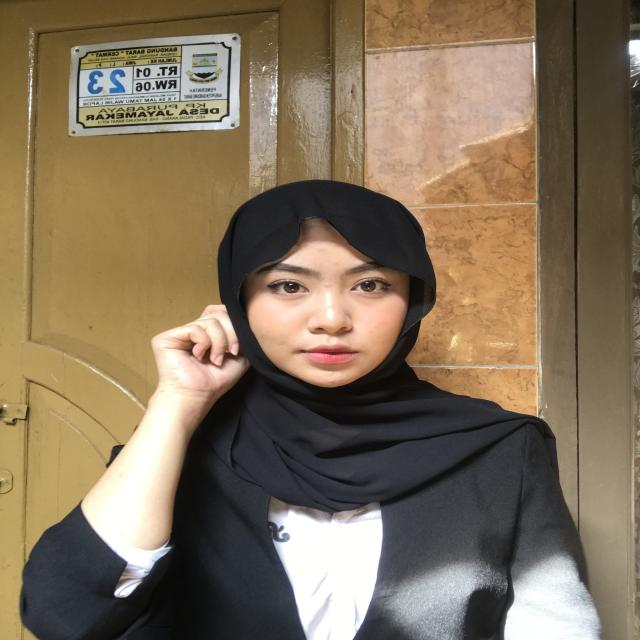ibu: (130, 286, 264, 421)
